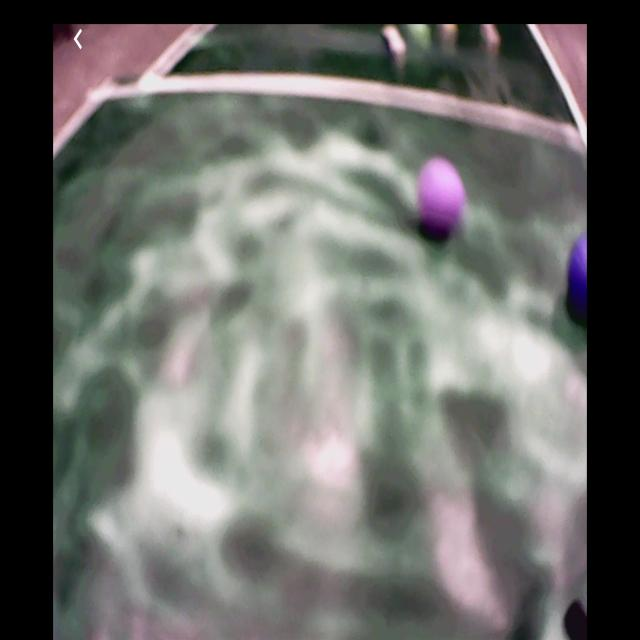ball: (417, 159, 463, 228), (569, 236, 587, 314)
